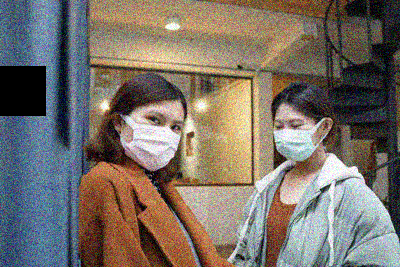with_mask: (124, 110, 184, 173), (272, 117, 320, 163)
